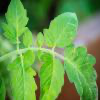Tomato leaf: (65, 43, 100, 99), (45, 11, 78, 51), (8, 55, 37, 100), (40, 52, 63, 99), (2, 1, 26, 45), (23, 49, 37, 69), (23, 29, 34, 49), (36, 30, 44, 49)
